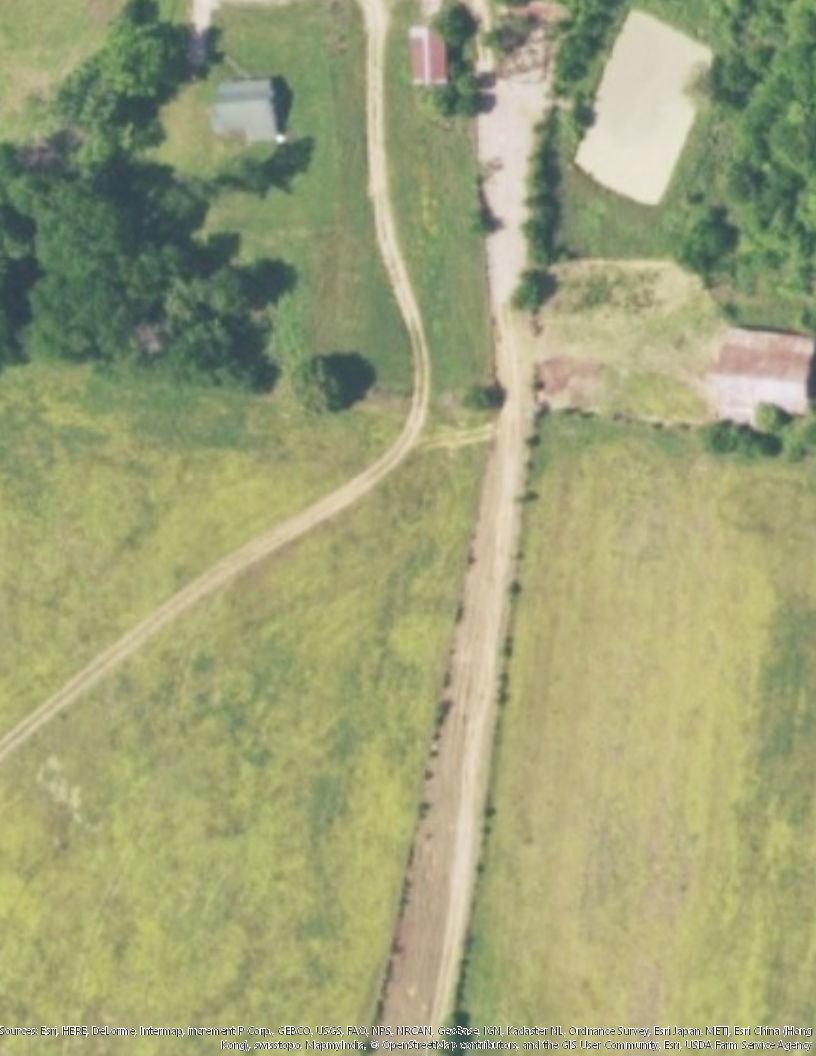cafo: (694, 324, 816, 434)
